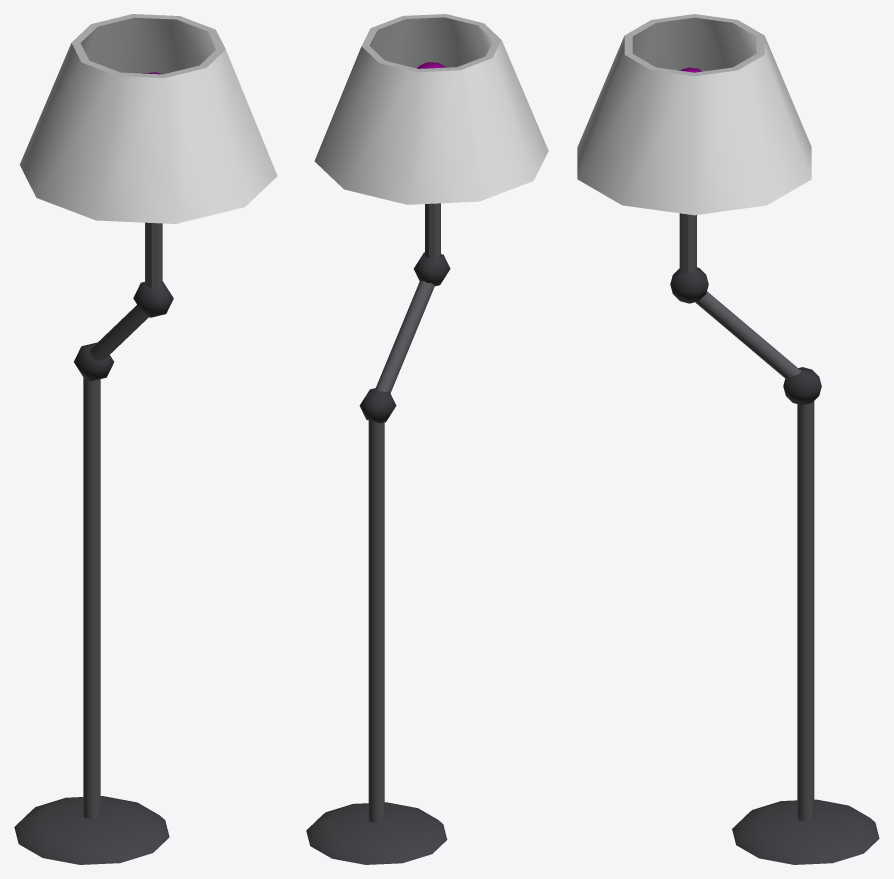
Rendered from SM_LampSphereHolderGreyWhite_02.fbx.
3 views of the same model, side by side, from view 1: azimuth 30°, elevation 25°; view 2: azimuth 150°, elevation 25°; view 3: azimuth 270°, elevation 25° (orthographic). The views are drawn at different scales.
Visible parts, largest first — view 1: SM_LampSphereHolderGreyWhite_01; view 2: SM_LampSphereHolderGreyWhite_01; view 3: SM_LampSphereHolderGreyWhite_01.
Part boxes in pixels (box(x1,y1,x2,y2)): SM_LampSphereHolderGreyWhite_01: box(14, 14, 277, 864); SM_LampSphereHolderGreyWhite_01: box(306, 14, 548, 864); SM_LampSphereHolderGreyWhite_01: box(577, 14, 879, 864).
Size of the model in its own units: 51.59 by 182 by 63.26.
